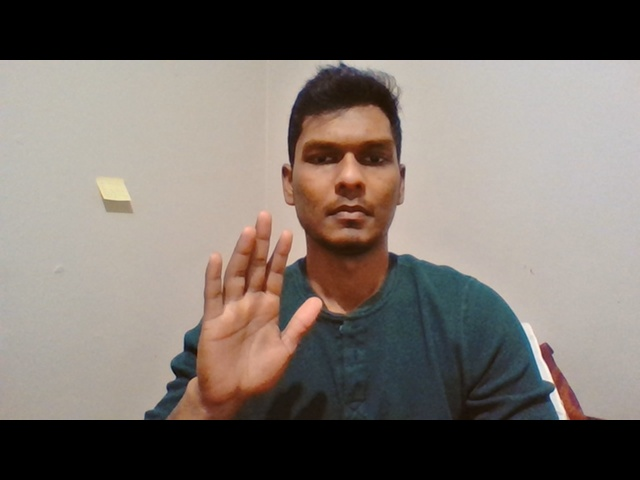Hello: (193, 206, 324, 414)
